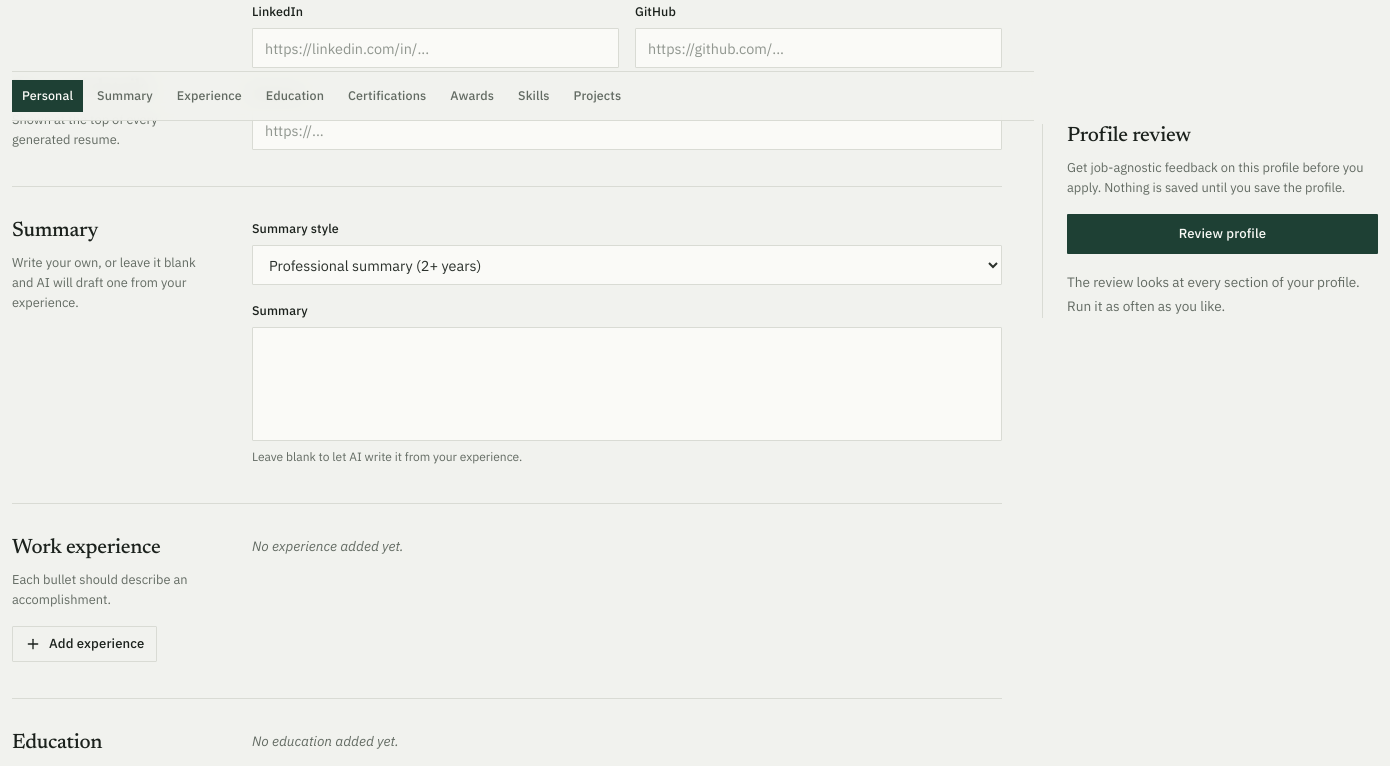
Scenario: ProfilePage › applies a summary proposal into the form and marks it dirty
The image size is (1390, 766).
(page scrolled)
Step 1. Type "Old summary" into the text box labelled "Summary" → [627, 384], box [252,327,1002,441]
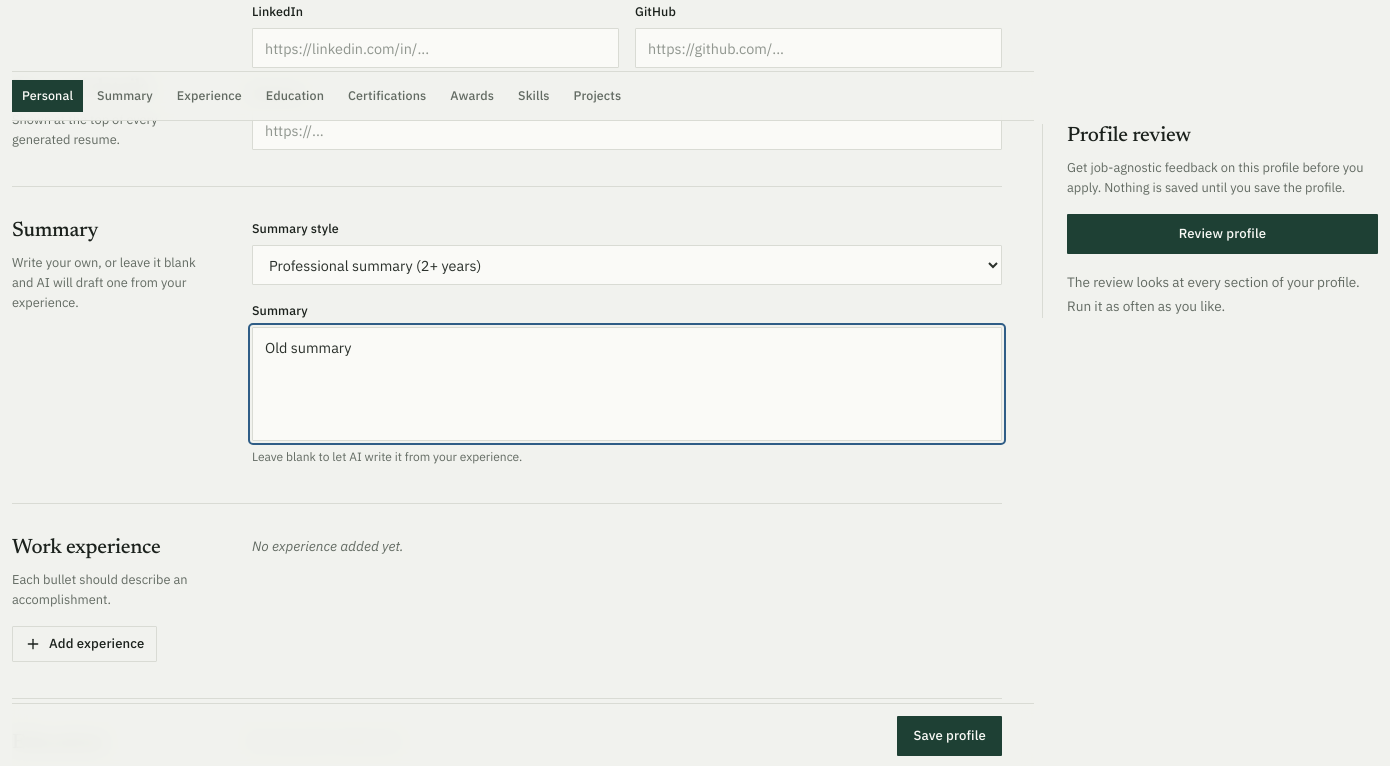
Step 2. Click the button "Review profile" → [1222, 234], box [1067,214,1378,254]
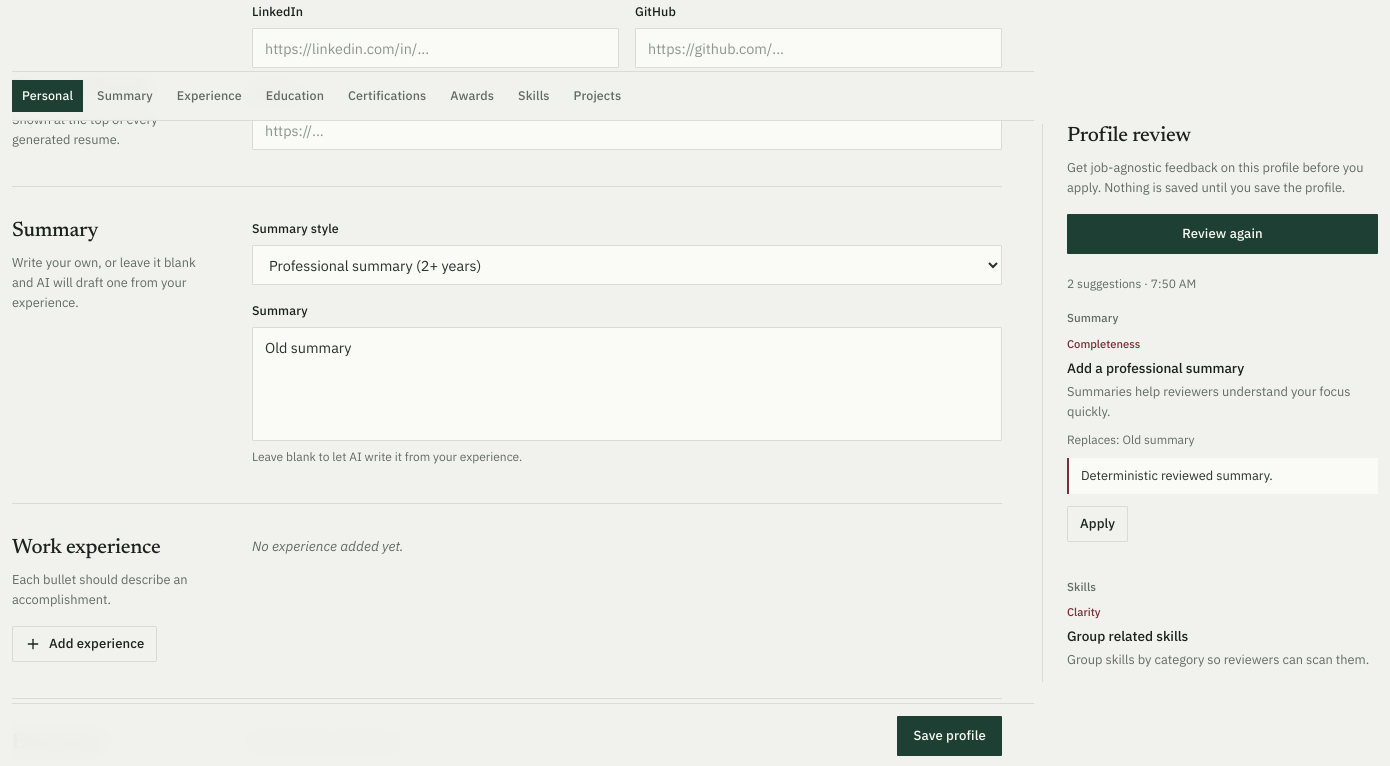
Result: the text "2 suggestions · 7:50 AM" is shown at [1067,276,1196,291]
Step 3. Click the button with aria-label "Apply suggestion: Add a professional summary" → [1098, 524], box [1067,506,1128,542]
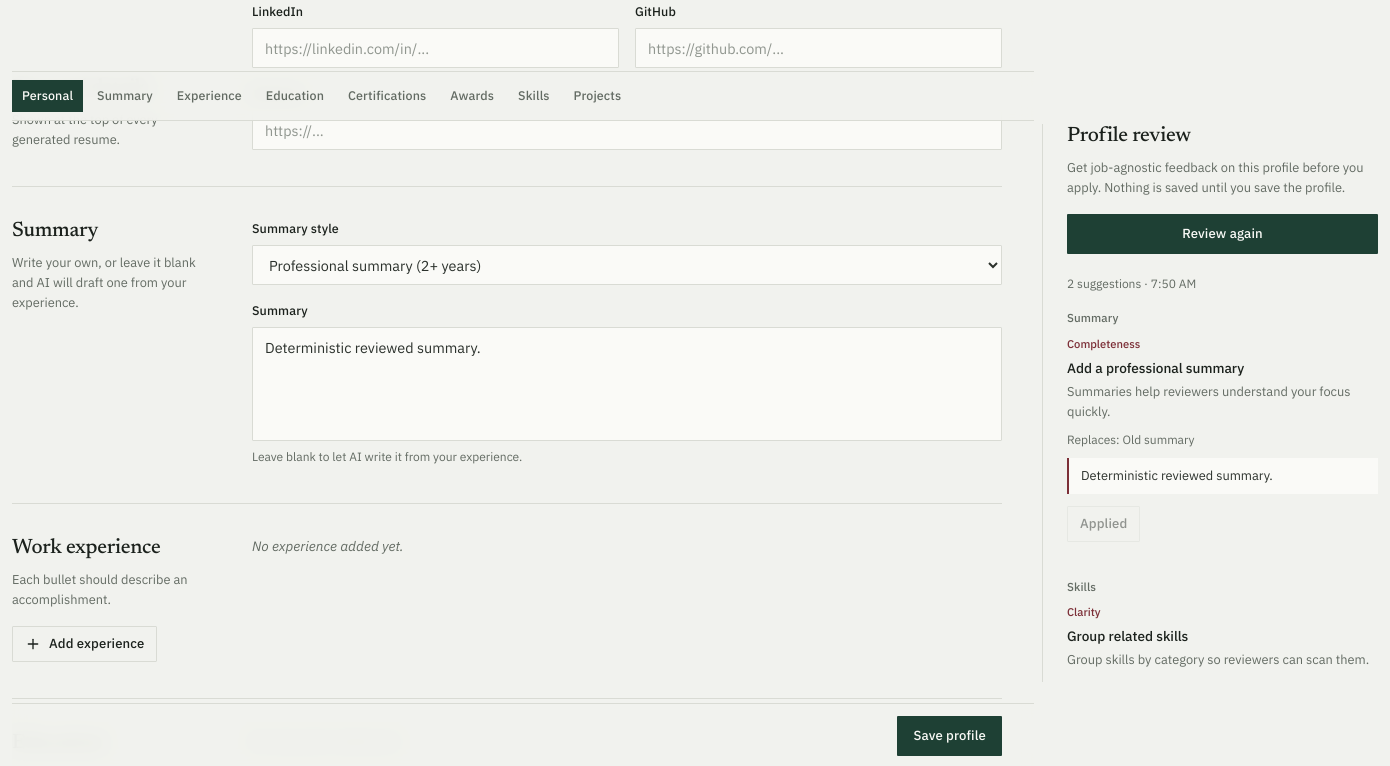
Result: the button "Save profile" is enabled at [898,716,1002,756]
Result: the text box labelled "Summary" holds "Deterministic reviewed summary." at [252,327,1002,441]
